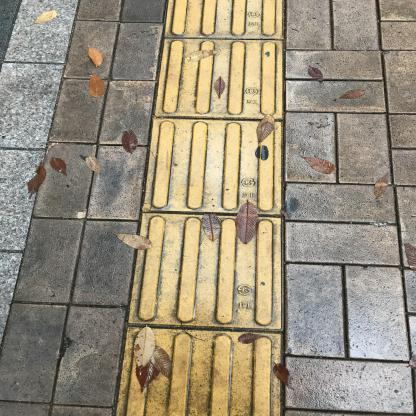podotacti: (106, 0, 297, 415)
